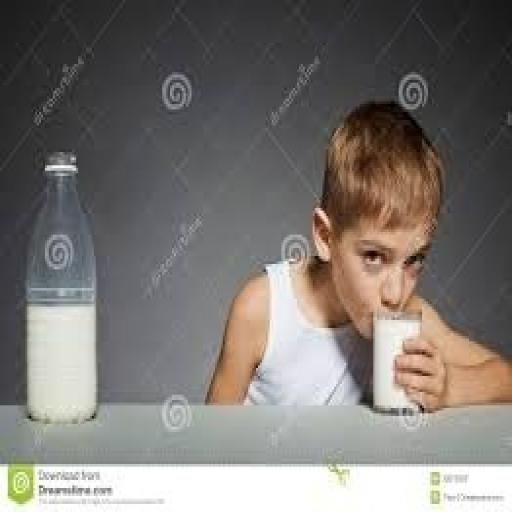drinking: (289, 84, 473, 443)
